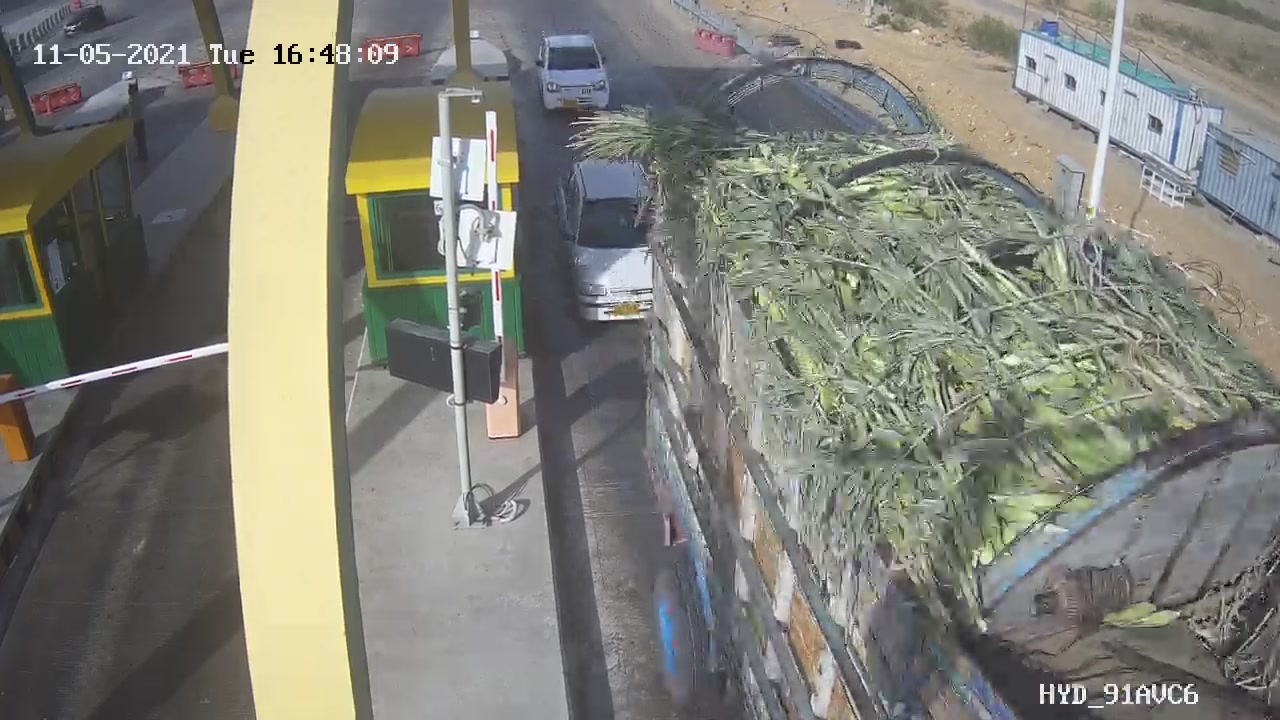F1: (524, 25, 630, 122)
